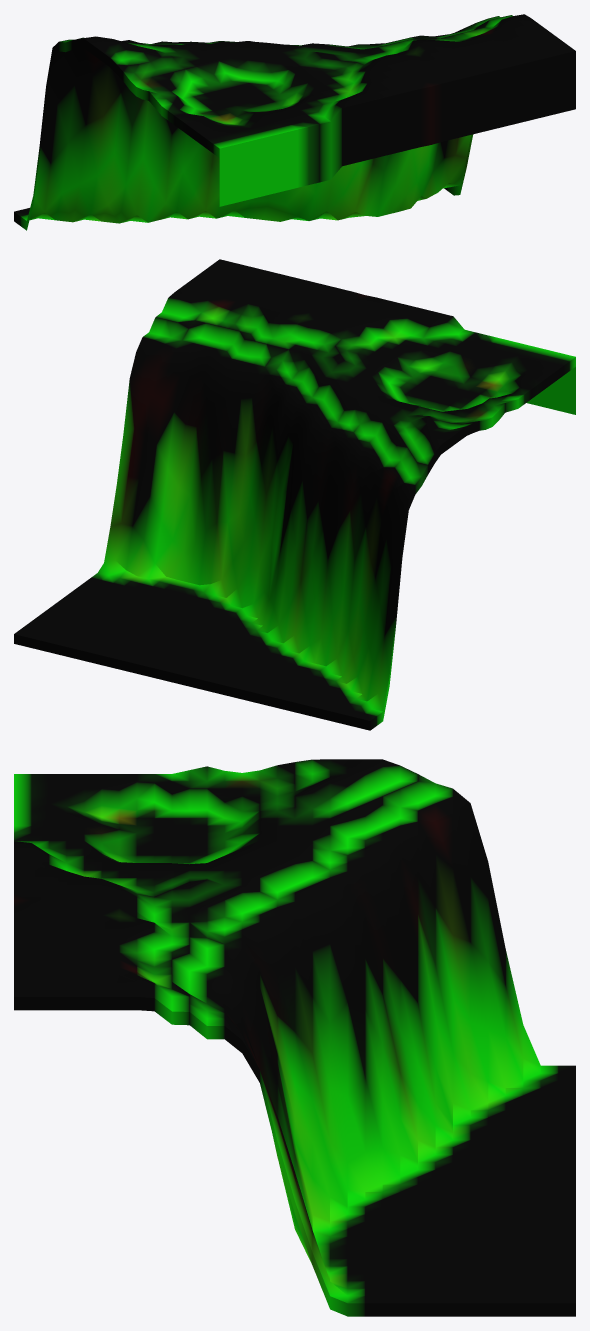
File: Terrain_07_05.fbx
3 views of the same model, one above another, from view 1: azimuth 30°, elevation 25°; view 2: azimuth 150°, elevation 25°; view 3: azimuth 270°, elevation 25° (orthographic). The views are drawn at different scales.
Visible parts, largest first — view 1: Terrain_07_05_LOD0; view 2: Terrain_07_05_LOD0; view 3: Terrain_07_05_LOD0.
Part boxes in pixels (<box>): Terrain_07_05_LOD0: <box>14,14,575,230</box>; Terrain_07_05_LOD0: <box>14,259,575,730</box>; Terrain_07_05_LOD0: <box>14,759,575,1316</box>.
Size of what is drawn, in the model's own units: 384 by 241 by 384.
